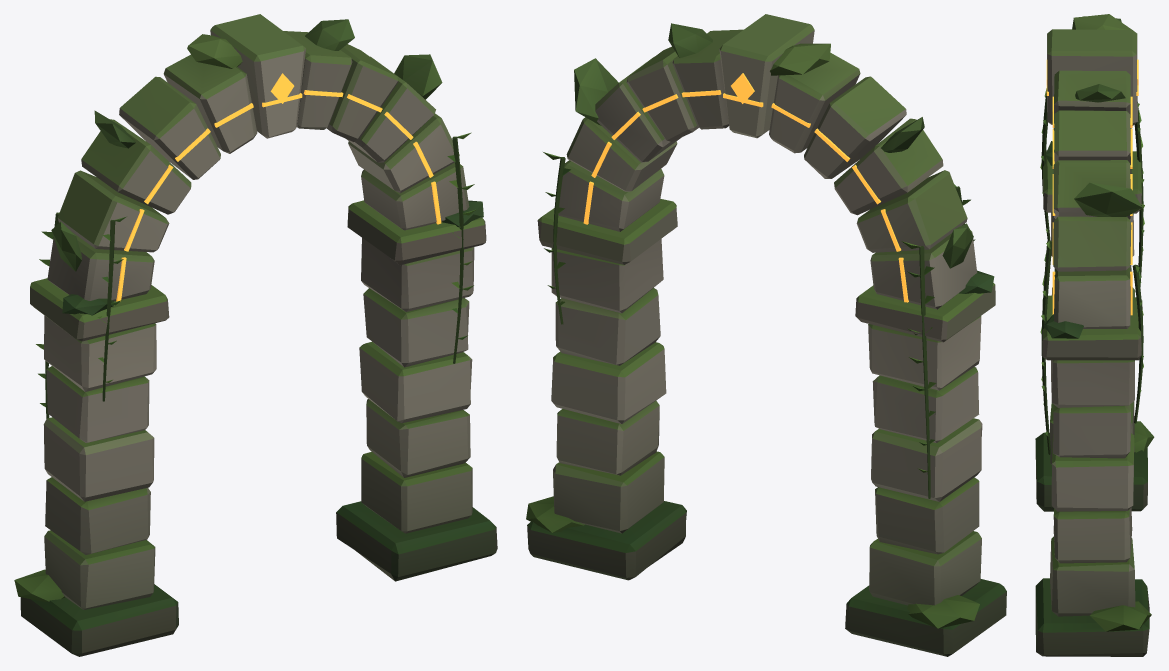
The model's file is jungle-arch.glb.
3 renders of one model, left to right at view 1: azimuth 30°, elevation 25°; view 2: azimuth 150°, elevation 25°; view 3: azimuth 270°, elevation 25°, orthographic. The views are drawn at different scales.
Visible parts, largest first — view 1: arch; view 2: arch; view 3: arch.
Part boxes in pixels (x1,y1,x2,y2): arch: [14, 14, 497, 656]; arch: [526, 14, 1006, 656]; arch: [1035, 14, 1154, 656].
Bounding box in the file's own units: 3.93 × 4.67 × 0.9617.
